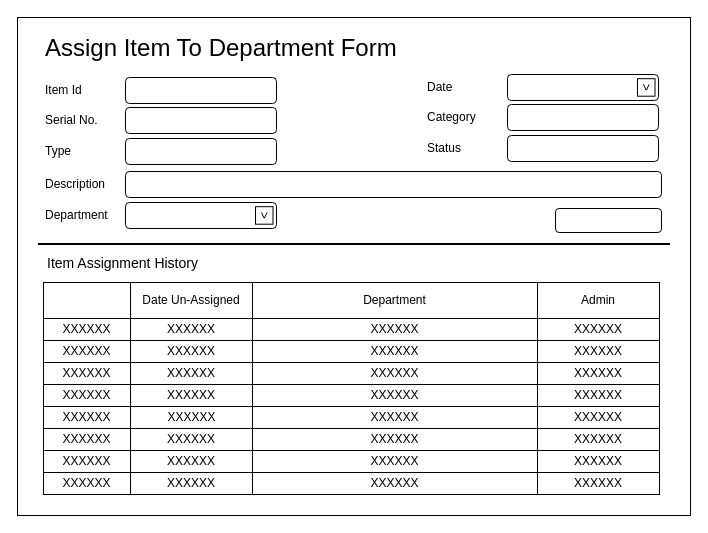
The diagram is 708 pixels wide and 533 high, and some of its shapes have lost their labels. Here are the shapes that lost their labels. From the top down, the centre of each, then its label:
At (x=608, y=220): "Assign".
At (x=86, y=300): "Date Assigned".
